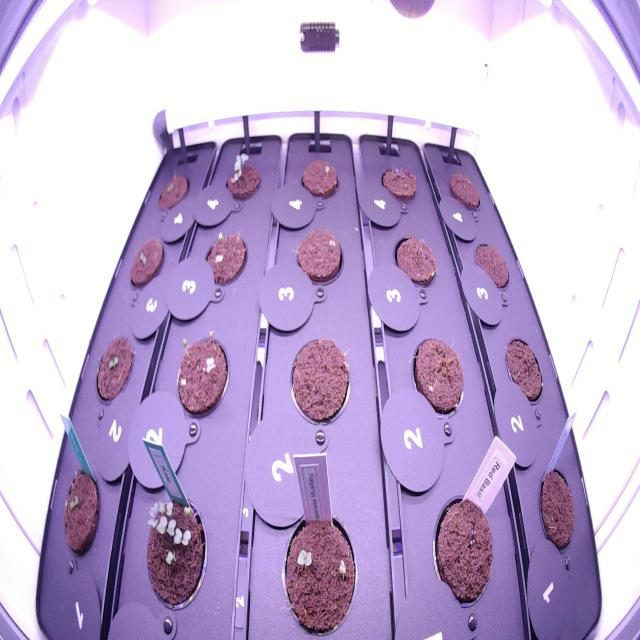germination: (274, 491, 364, 638), (134, 479, 214, 620), (168, 322, 234, 434), (57, 456, 104, 564), (191, 221, 252, 300), (290, 222, 350, 298), (88, 325, 138, 416), (216, 143, 268, 213), (123, 231, 168, 297), (295, 147, 344, 205), (152, 163, 192, 214)
pod: (420, 475, 500, 615), (284, 326, 359, 433), (408, 326, 469, 426), (531, 457, 581, 567), (498, 329, 548, 413), (388, 224, 442, 294), (466, 232, 514, 298), (372, 152, 423, 212), (442, 160, 488, 219)
